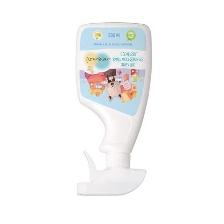cleaning_solution: (73, 18, 155, 199)
